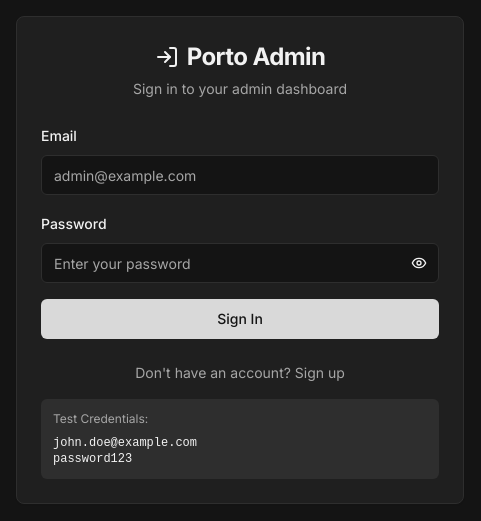
Scenario: LoginPage › should show loading state during login
Type "test@example.com" into the field labelled "Email" at x=240, y=175, box 41,155 -> 439,195
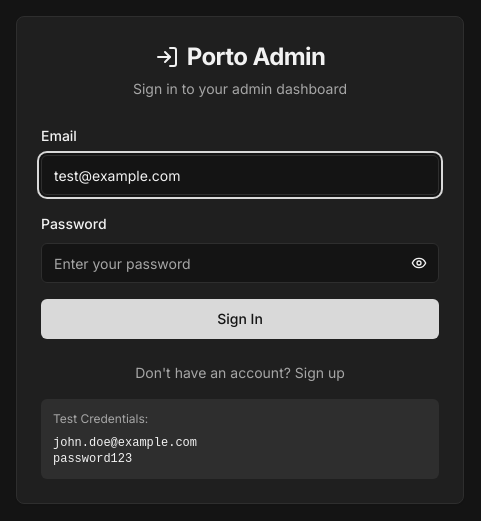
Type "password123" into the password field labelled "Password" at x=240, y=263, box 41,243 -> 439,283
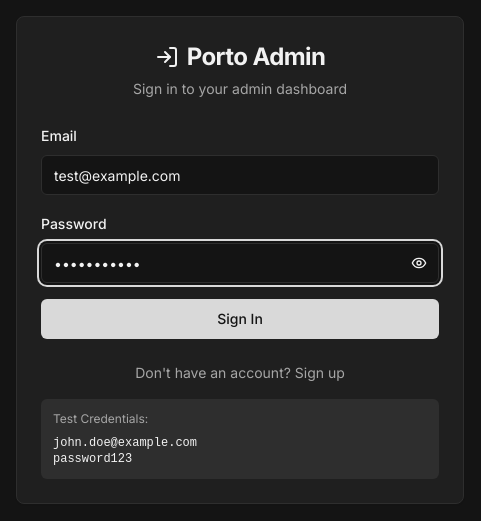
Click the button "Sign In" at x=240, y=319, box 41,299 -> 439,339
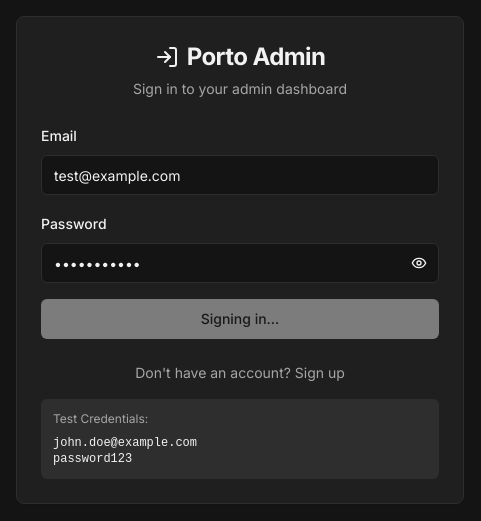
Expected: the button "Signing in..." is disabled, 41,299 -> 439,339
